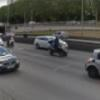motorcycles: (48, 40, 68, 57)
